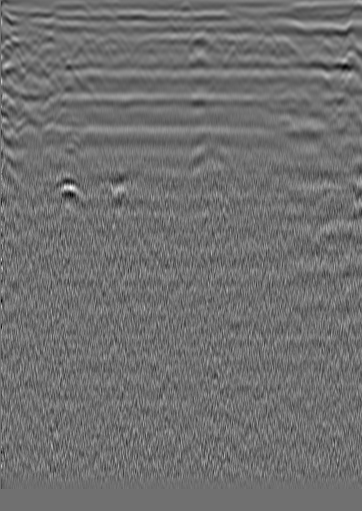가스: (104, 168, 139, 210)
상수: (313, 34, 333, 54)
우수: (190, 29, 210, 49)
